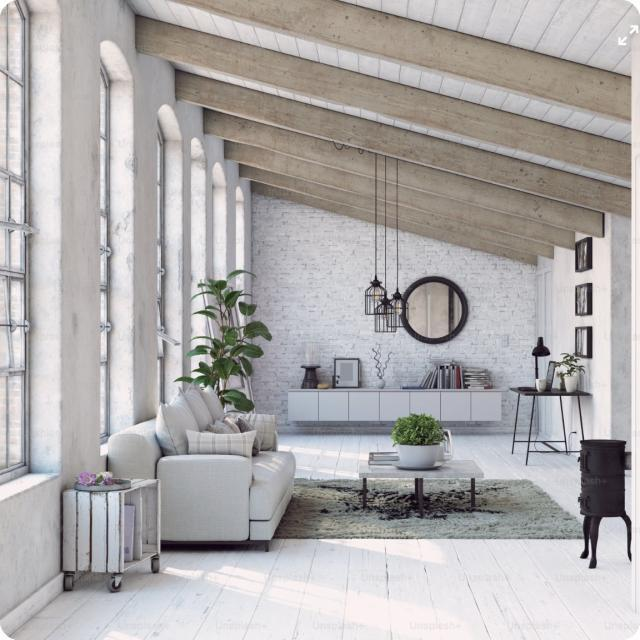book: (460, 365, 496, 394), (439, 362, 452, 395), (425, 364, 434, 390)
cabinet: (65, 463, 163, 591)
lamp: (364, 157, 407, 341)
picture: (332, 351, 363, 389)
potted plant: (393, 409, 453, 467)
sofa: (107, 378, 313, 557)
table: (357, 444, 487, 518), (509, 377, 586, 459)
